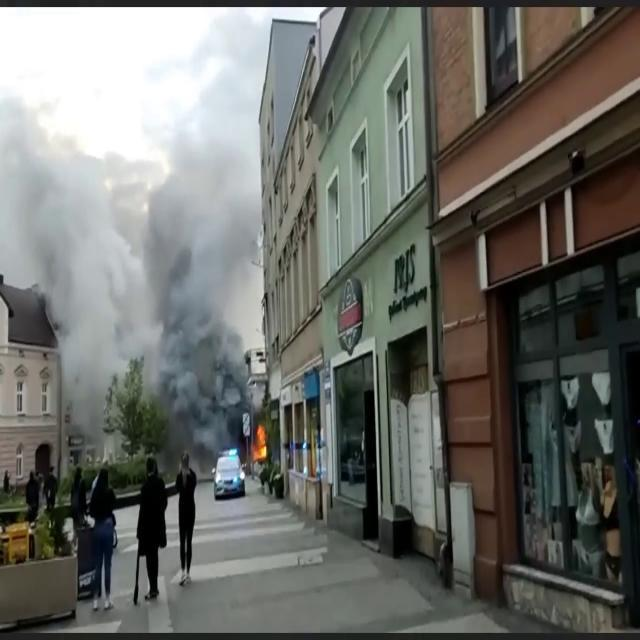Fire: (252, 417, 270, 467)
Smoke: (1, 47, 258, 434)
